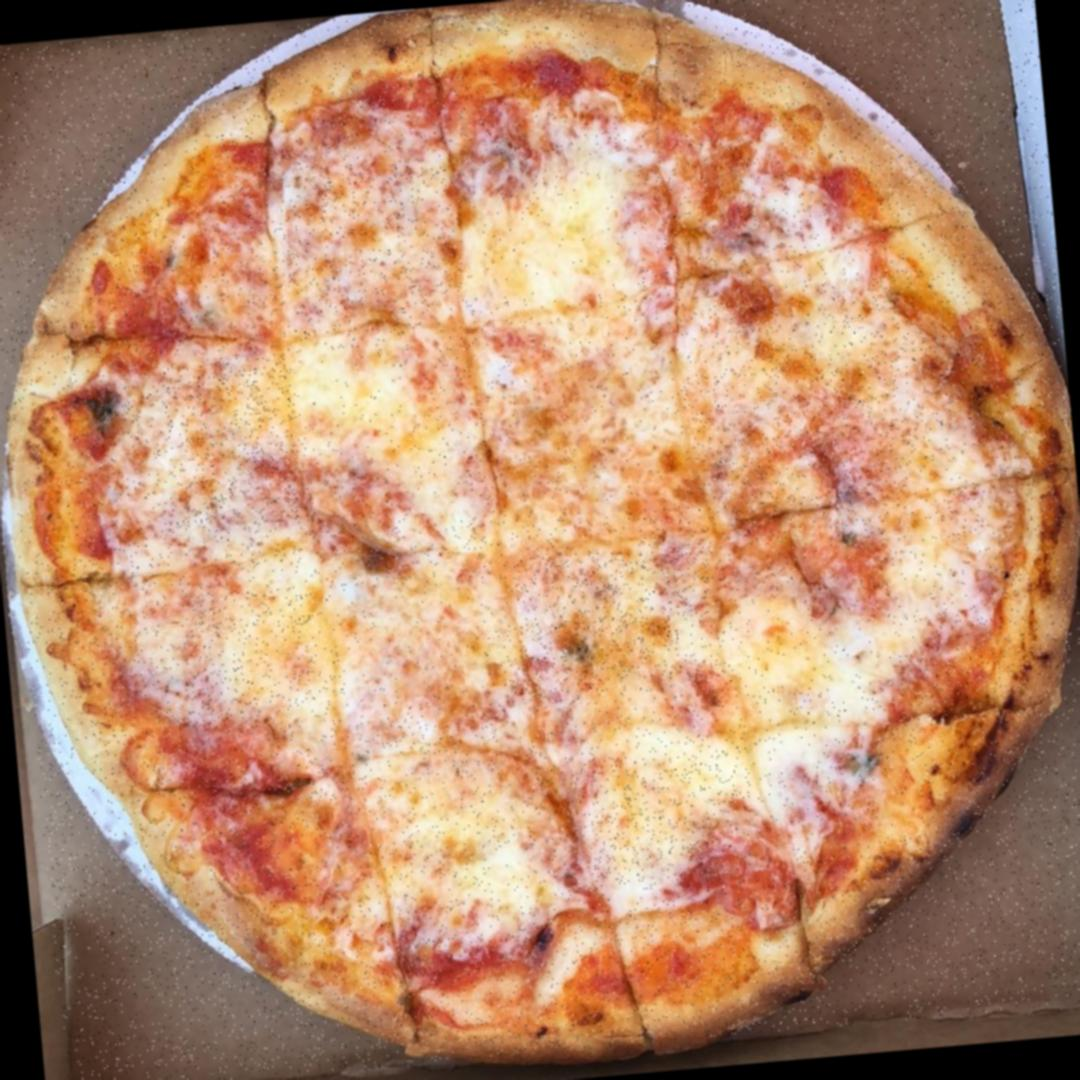Cheese: (696, 292, 938, 488), (478, 314, 686, 520), (734, 529, 940, 690), (514, 545, 719, 704), (301, 340, 469, 532), (458, 151, 646, 298), (282, 158, 439, 320), (159, 355, 301, 534), (585, 748, 743, 884), (344, 578, 501, 709), (179, 586, 323, 722), (388, 765, 537, 894)
Pizza: (0, 0, 1080, 1080)
